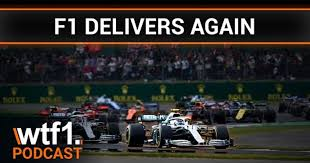FormulaOneCar: (124, 110, 238, 152)
